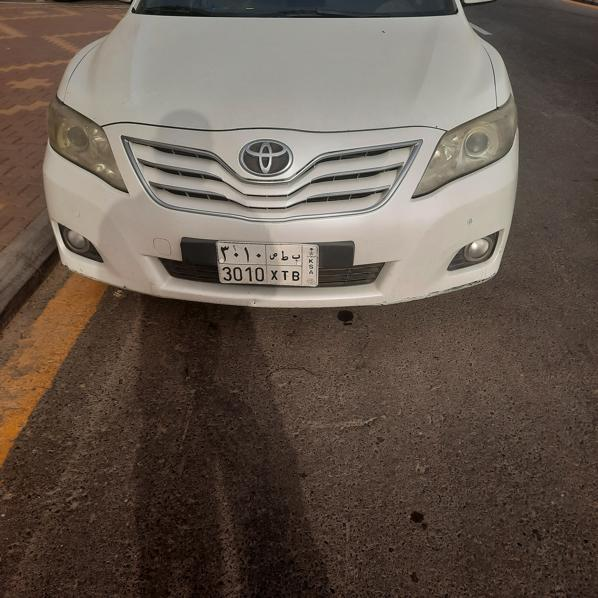numberplate: (216, 241, 319, 287)
